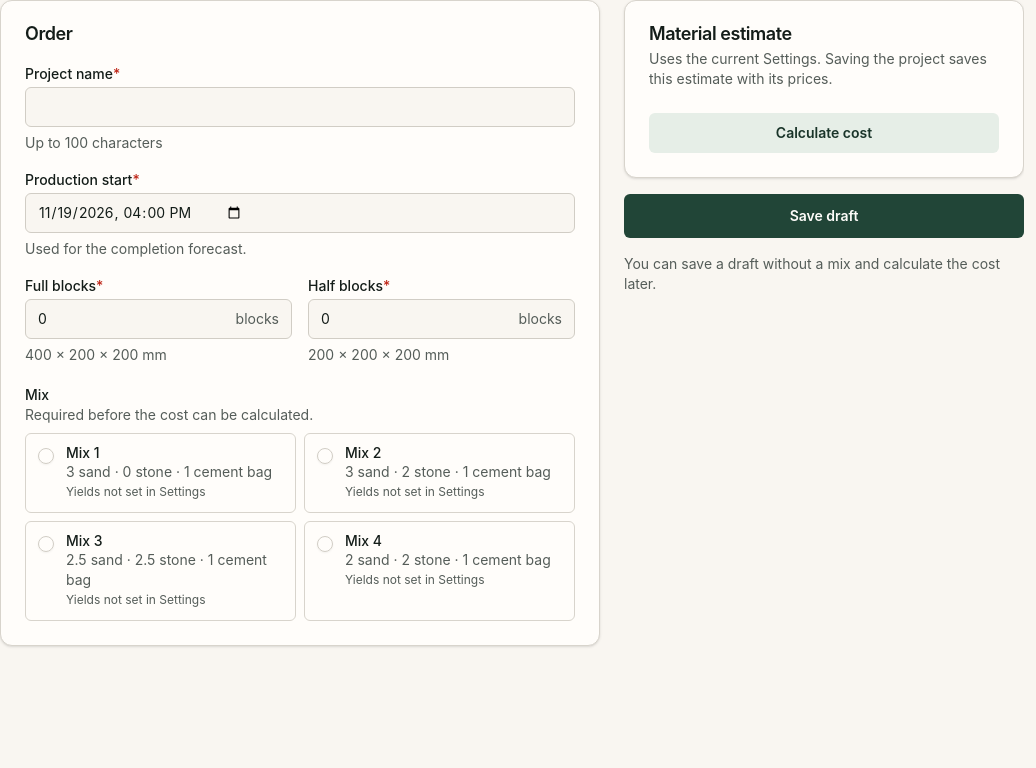
ProjectForm › AT02: calculating without a mix asks for one and shows no cost
Check: the field labelled "Project name*" is shown, box [26,88,574,126]
Replace the text in the field labelled "Full blocks*" with "10" at (131, 319), box [26,300,236,338]
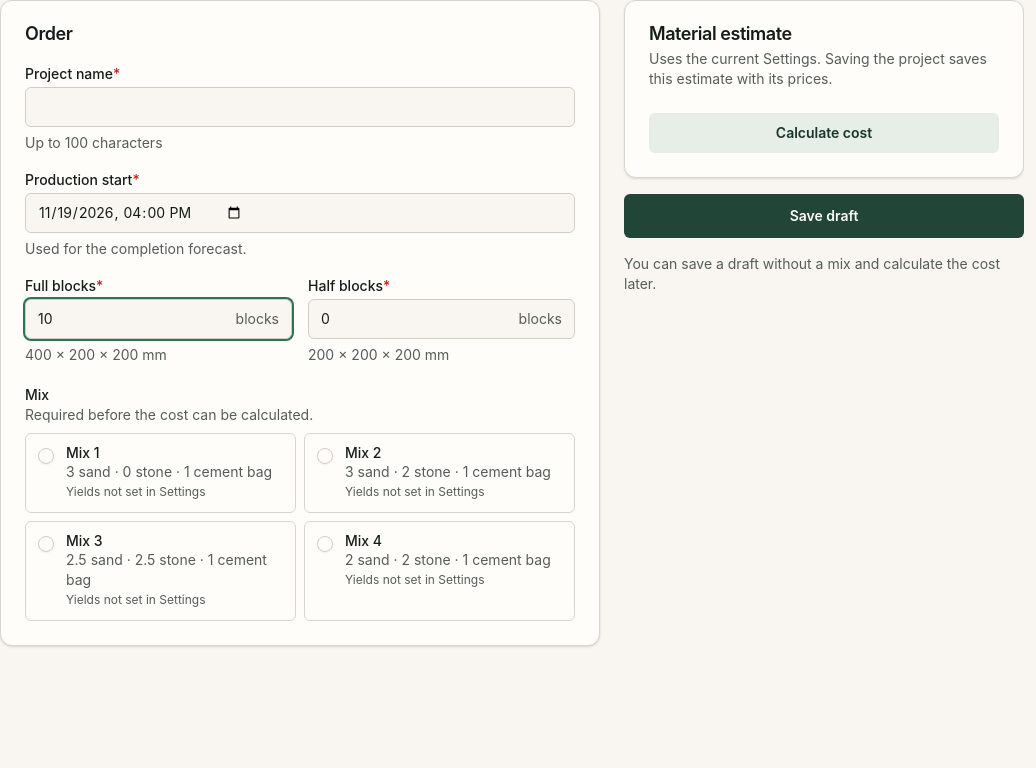
Click the button "Calculate cost" at (824, 133), box [649,113,999,153]
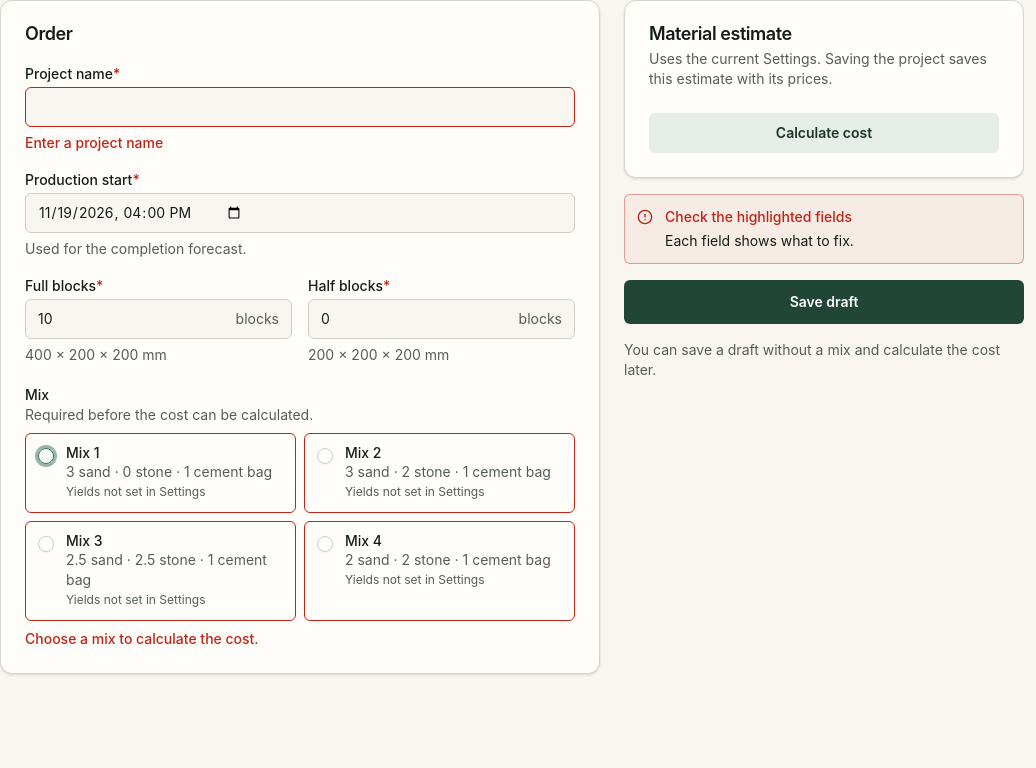
Check: the text "Choose a mix to calculate the cost." is shown, box [25,630,259,647]
